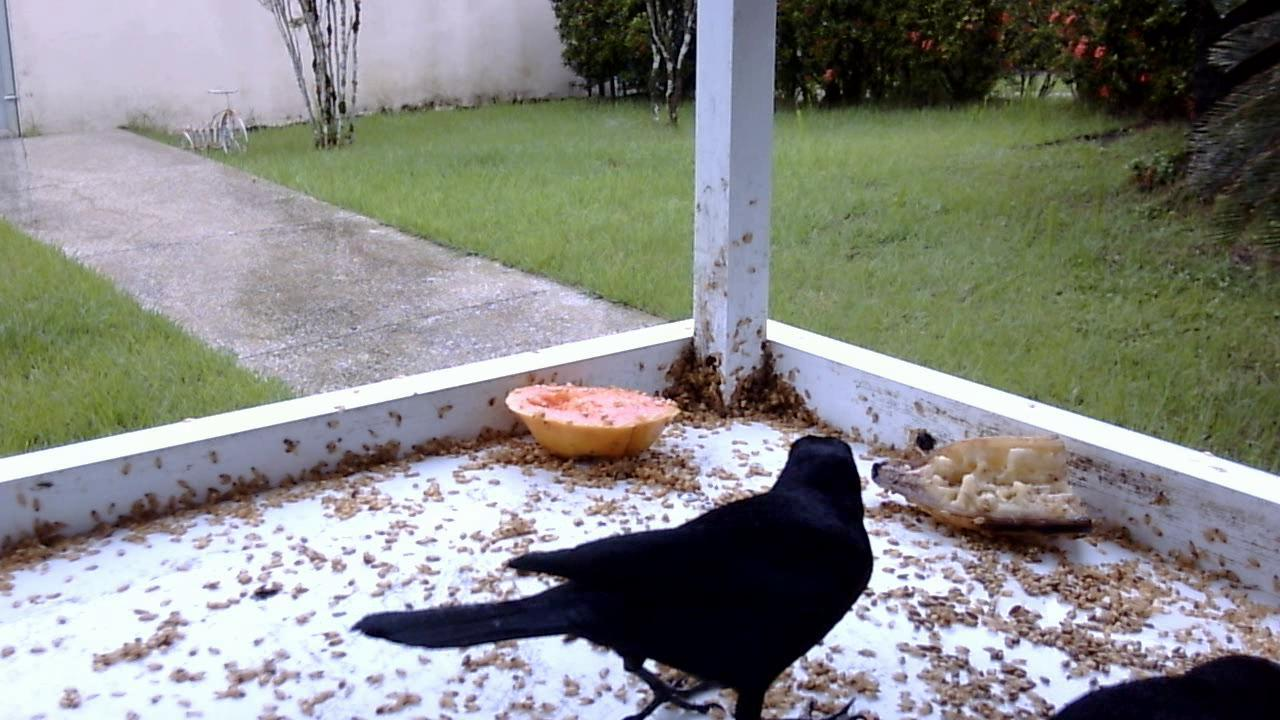chupim: (359, 417, 876, 716)
